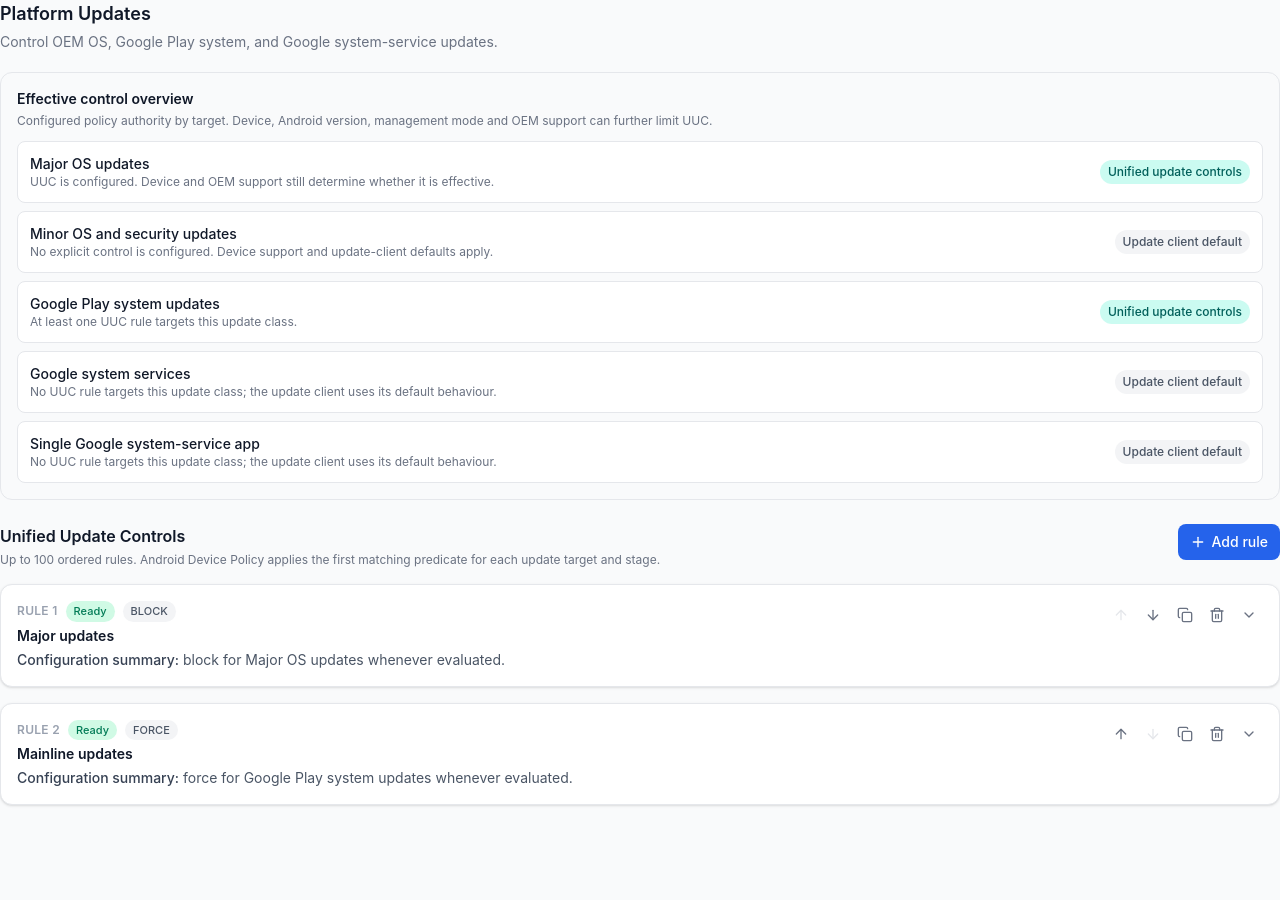
it: PlatformUpdatesSection › keeps existing rules collapsed and expands only one editor at a time
Check: the text "Configuration summary:" is shown 2 times, box left=17, top=650, right=179, bottom=668; left=17, top=769, right=179, bottom=786
Click the button named "Expand rule 1": coordinates (1249, 615) left=1235, top=601, right=1263, bottom=629
(page scrolled)
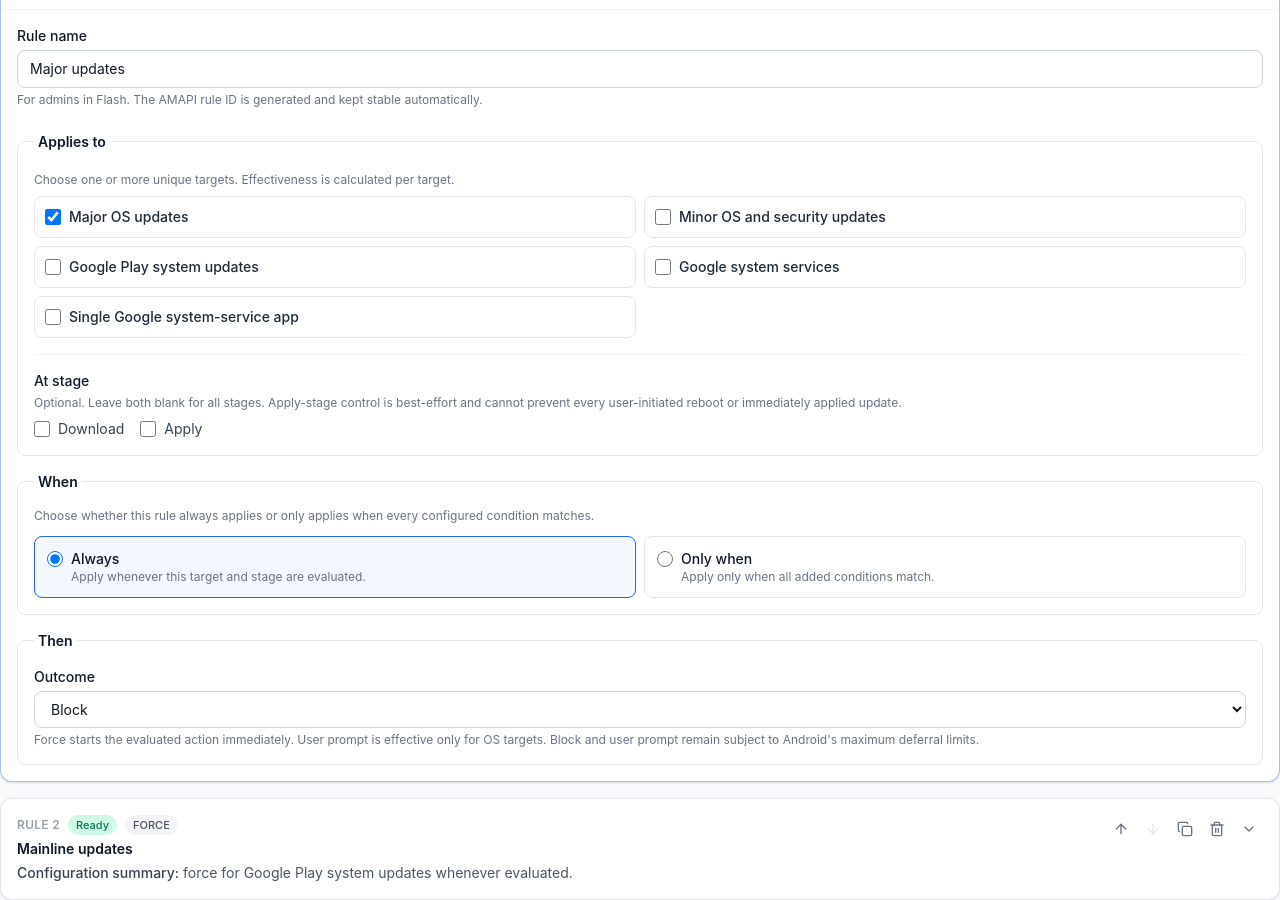
Check: the field named "Rule 1 name" is shown, box left=17, top=50, right=1263, bottom=88
Click the button named "Expand rule 2": coordinates (1249, 828) left=1235, top=814, right=1263, bottom=842
(page scrolled)
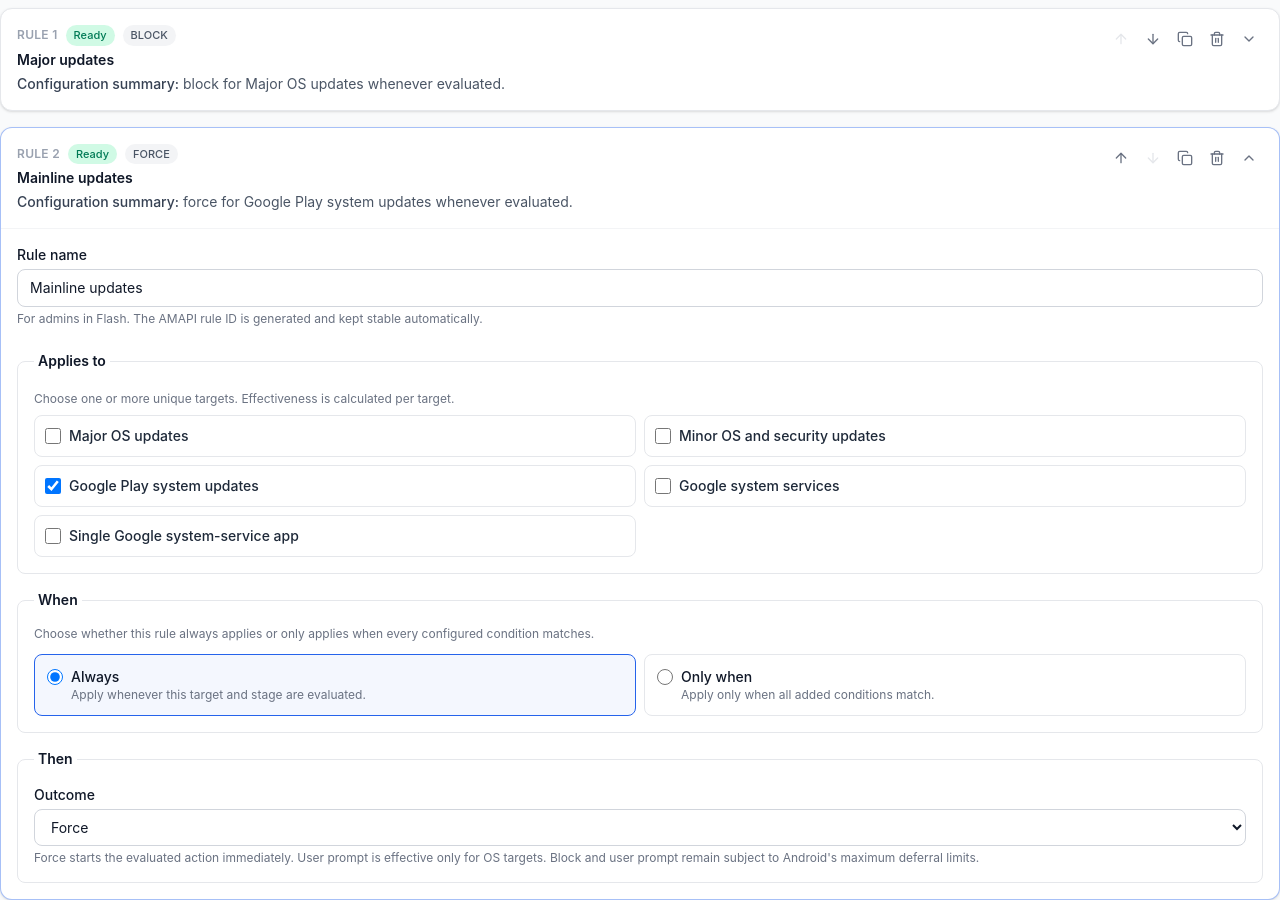
Check: the field named "Rule 2 name" is shown, box left=17, top=269, right=1263, bottom=307
